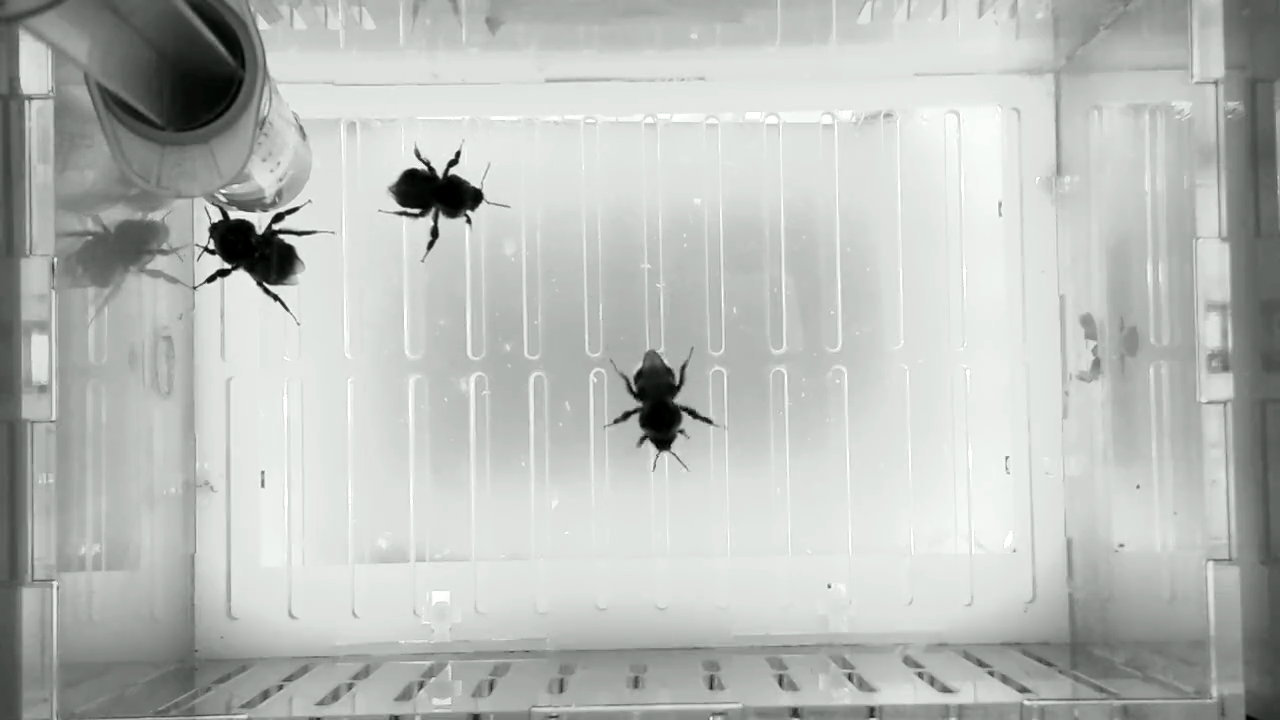bee_alive: (185, 194, 346, 331), (372, 137, 515, 268), (597, 344, 730, 477)
feeder: (204, 79, 317, 216)
